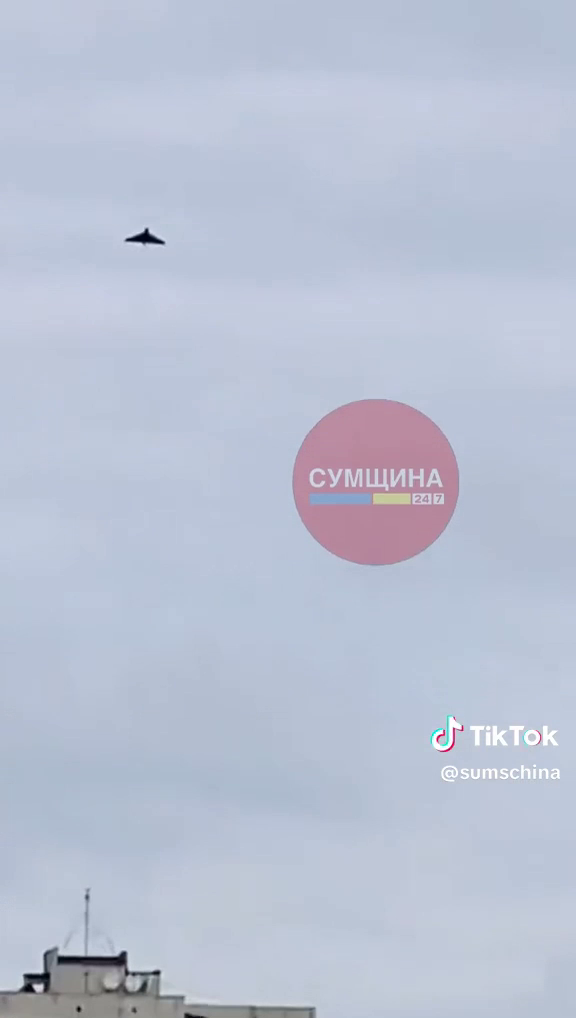shahed: (100, 210, 180, 264)
